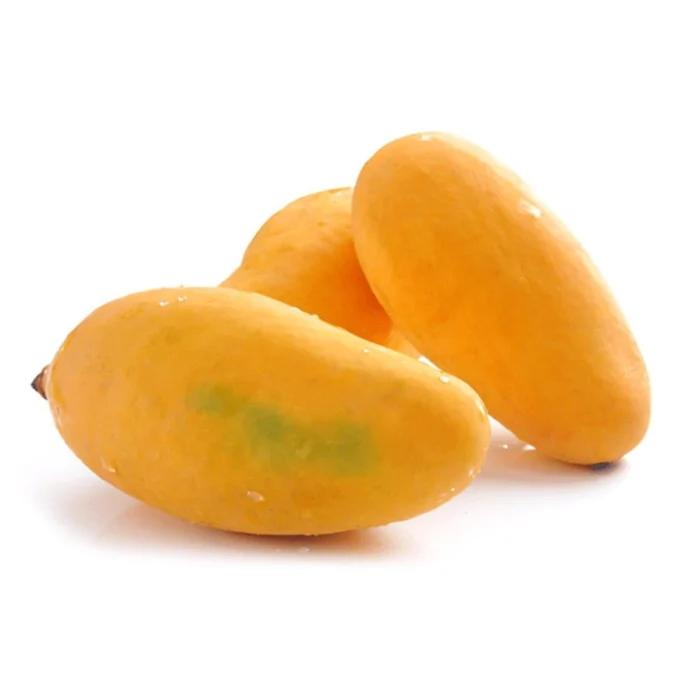mango: (30, 284, 491, 537), (350, 128, 652, 467), (218, 185, 422, 362)
